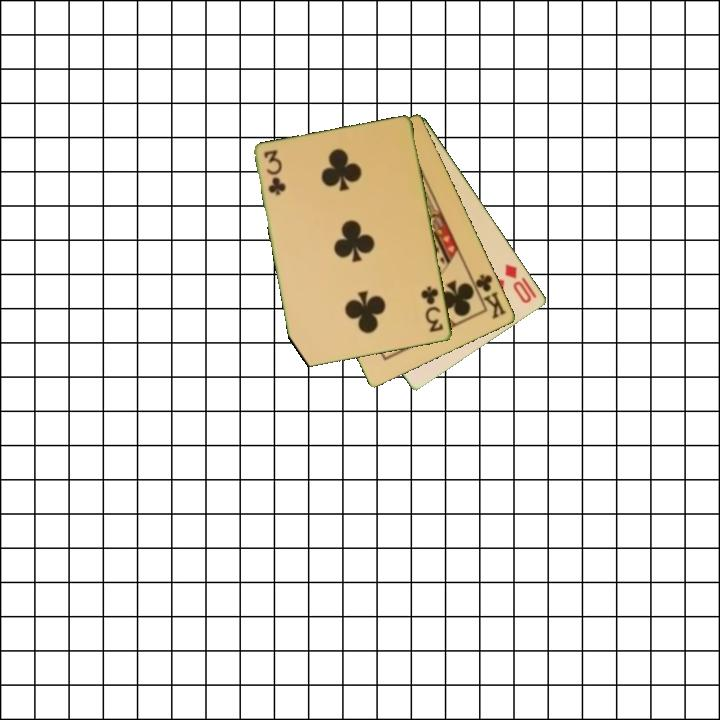10d: (501, 260, 540, 306)
3c: (418, 282, 446, 335), (261, 146, 287, 199)
Kc: (468, 270, 510, 322)
